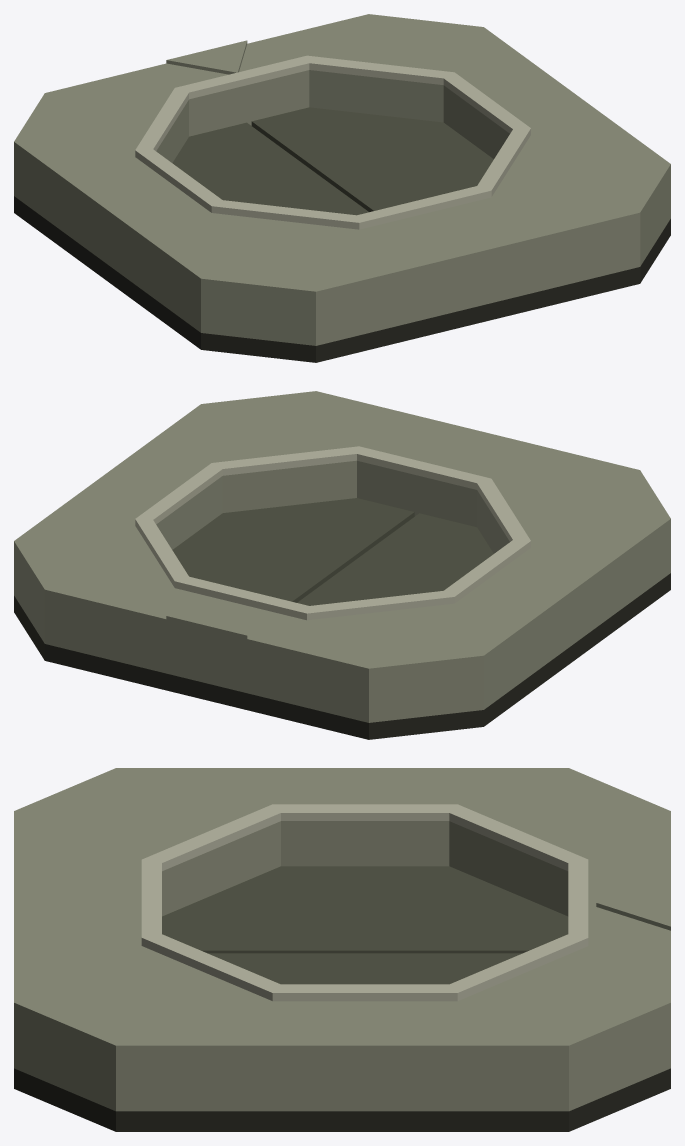
Rendered from vge_mech_pod_launcher.obj.
3 views of the same model, one above another, from view 1: azimuth 30°, elevation 25°; view 2: azimuth 150°, elevation 25°; view 3: azimuth 270°, elevation 25° (orthographic). The views are drawn at different scales.
Parts seen in each view (by area): view 1: vge_mech_pod_launcher_2, vge_mech_pod_launcher_8, vge_mech_pod_launcher_18, vge_mech_pod_launcher_1, vge_mech_pod_launcher_4, vge_mech_pod_launcher_0, vge_mech_pod_launcher_5, vge_mech_pod_launcher_6, vge_mech_pod_launcher_3, vge_mech_pod_launcher_17, vge_mech_pod_launcher_7, vge_mech_pod_launcher_9 (+8 smaller); view 2: vge_mech_pod_launcher_6, vge_mech_pod_launcher_8, vge_mech_pod_launcher_2, vge_mech_pod_launcher_18, vge_mech_pod_launcher_7, vge_mech_pod_launcher_3, vge_mech_pod_launcher_4, vge_mech_pod_launcher_0, vge_mech_pod_launcher_17, vge_mech_pod_launcher_1, vge_mech_pod_launcher_5, vge_mech_pod_launcher_15 (+8 smaller); view 3: vge_mech_pod_launcher_4, vge_mech_pod_launcher_17, vge_mech_pod_launcher_8, vge_mech_pod_launcher_3, vge_mech_pod_launcher_2, vge_mech_pod_launcher_5, vge_mech_pod_launcher_1, vge_mech_pod_launcher_7, vge_mech_pod_launcher_0, vge_mech_pod_launcher_6, vge_mech_pod_launcher_18, vge_mech_pod_launcher_12 (+8 smaller).
Boxes of the visible parts, x1,y1,x2,y2 form: vge_mech_pod_launcher_2: (316,194,640,345); vge_mech_pod_launcher_8: (14,141,220,332); vge_mech_pod_launcher_18: (251,107,493,211); vge_mech_pod_launcher_1: (201,214,352,345); vge_mech_pod_launcher_4: (443,27,670,163); vge_mech_pod_launcher_0: (14,196,670,362); vge_mech_pod_launcher_5: (309,14,483,122); vge_mech_pod_launcher_6: (46,14,368,136); vge_mech_pod_launcher_3: (493,139,670,265); vge_mech_pod_launcher_17: (172,122,368,215); vge_mech_pod_launcher_7: (14,93,188,162); vge_mech_pod_launcher_9: (211,200,359,229); vge_mech_pod_launcher_6: (44,584,368,722); vge_mech_pod_launcher_8: (448,518,670,709); vge_mech_pod_launcher_2: (316,391,639,527); vge_mech_pod_launcher_18: (172,498,414,602); vge_mech_pod_launcher_7: (317,604,483,722); vge_mech_pod_launcher_3: (201,391,356,512); vge_mech_pod_launcher_4: (14,404,222,549); vge_mech_pod_launcher_0: (14,573,670,739); vge_mech_pod_launcher_17: (297,513,493,605); vge_mech_pod_launcher_1: (477,470,670,553); vge_mech_pod_launcher_5: (14,528,171,642); vge_mech_pod_launcher_15: (307,591,454,620); vge_mech_pod_launcher_4: (116,998,568,1111); vge_mech_pod_launcher_17: (162,866,568,953); vge_mech_pod_launcher_8: (116,768,568,866); vge_mech_pod_launcher_3: (14,948,264,1111); vge_mech_pod_launcher_2: (14,811,146,1002); vge_mech_pod_launcher_5: (463,949,670,1111); vge_mech_pod_launcher_1: (14,768,280,916); vge_mech_pod_launcher_7: (449,768,670,916); vge_mech_pod_launcher_0: (14,1068,670,1131); vge_mech_pod_launcher_6: (580,811,670,1002); vge_mech_pod_launcher_18: (208,953,522,984); vge_mech_pod_launcher_12: (272,984,457,1001).
Bounding box in the file's own units: 2.9 × 0.46 × 2.9.
